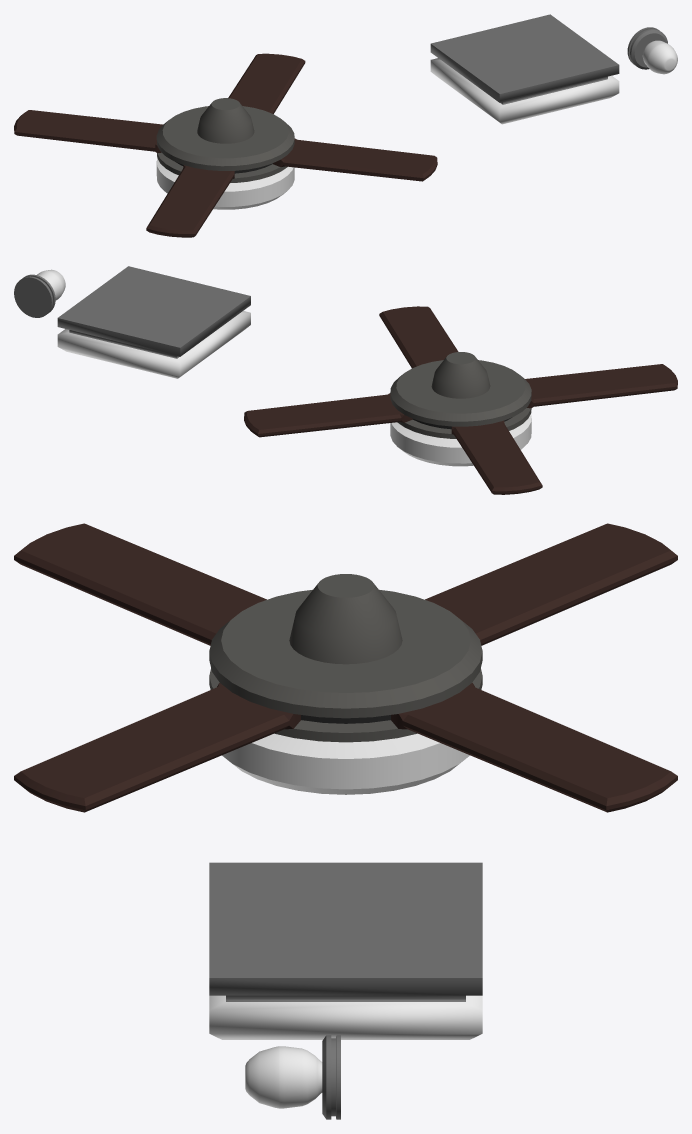
The model's file is LIGHT SET.fbx.
The picture shows the model from 3 angles, top to bottom: view 1: azimuth 30°, elevation 25°; view 2: azimuth 150°, elevation 25°; view 3: azimuth 270°, elevation 25°; orthographic projection. The views are drawn at different scales.
Visible parts, largest first — view 1: CEILING FAN, BATHROOM FAN/LIGHT, LIGHT BULB; view 2: CEILING FAN, BATHROOM FAN/LIGHT, LIGHT BULB; view 3: CEILING FAN, BATHROOM FAN/LIGHT, LIGHT BULB.
Boxes of the visible parts, box(x1,y1,x2,y2) form: CEILING FAN: box(14, 53, 437, 237); BATHROOM FAN/LIGHT: box(430, 14, 619, 124); LIGHT BULB: box(627, 27, 677, 74); CEILING FAN: box(244, 306, 677, 494); BATHROOM FAN/LIGHT: box(57, 266, 250, 378); LIGHT BULB: box(14, 269, 65, 317); CEILING FAN: box(14, 523, 677, 812); BATHROOM FAN/LIGHT: box(209, 862, 482, 1039); LIGHT BULB: box(245, 1035, 340, 1119).
Size of the model in its own units: 974 by 126 by 486.
